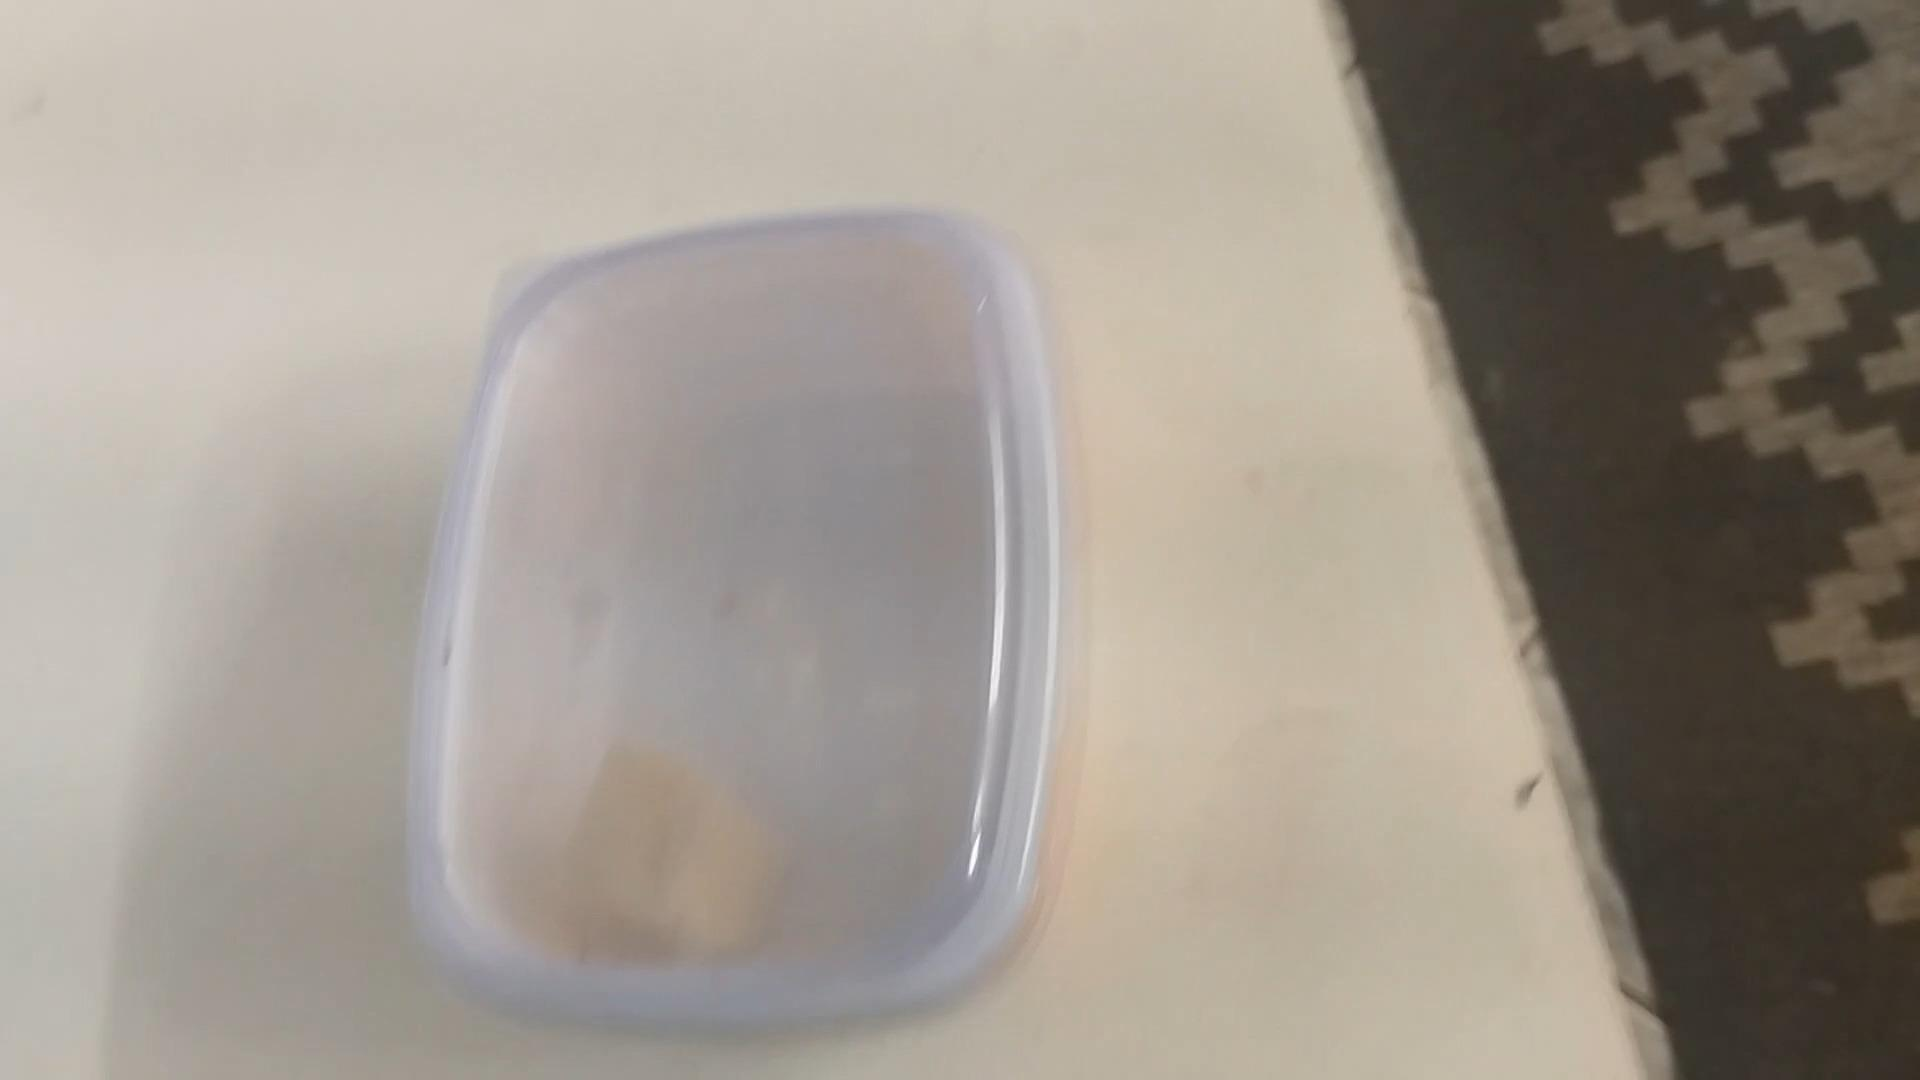butter: (411, 215, 1064, 1034)
